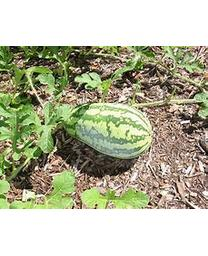watermelon: (62, 100, 154, 161)
